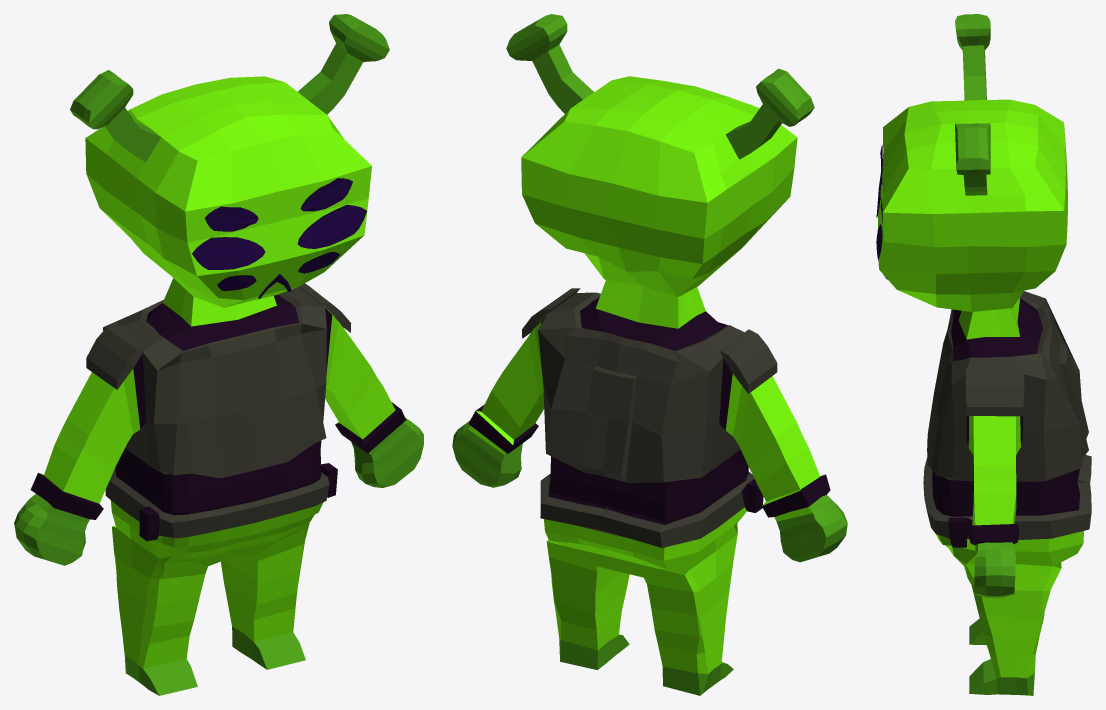
File: Alien2.0.fbx
The picture shows the model from 3 angles, left to right: view 1: azimuth 30°, elevation 25°; view 2: azimuth 150°, elevation 25°; view 3: azimuth 270°, elevation 25°; orthographic projection. The views are drawn at different scales.
Visible parts, largest first — view 1: Cube.001; view 2: Cube.001; view 3: Cube.001.
Boxes of the visible parts, box(x1,y1,x2,y2) form: Cube.001: box(14, 14, 423, 695); Cube.001: box(452, 14, 847, 695); Cube.001: box(876, 14, 1091, 695).
Bounding box in the file's own units: 205 × 309 × 102.
